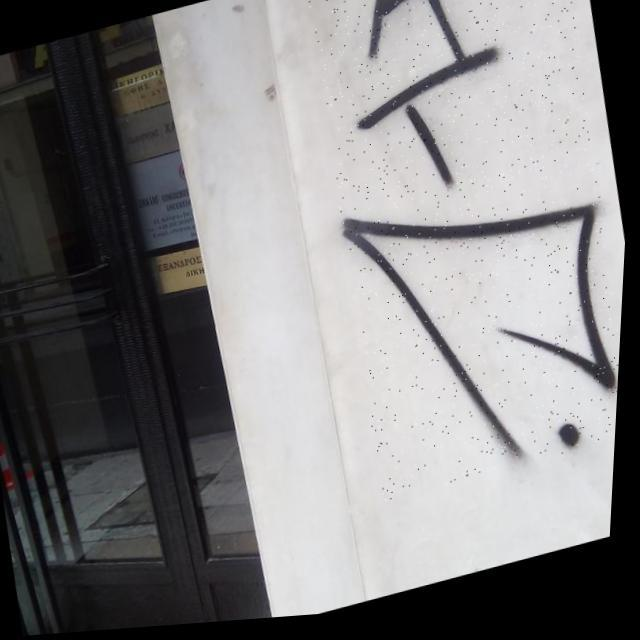-: (283, 0, 640, 514)
